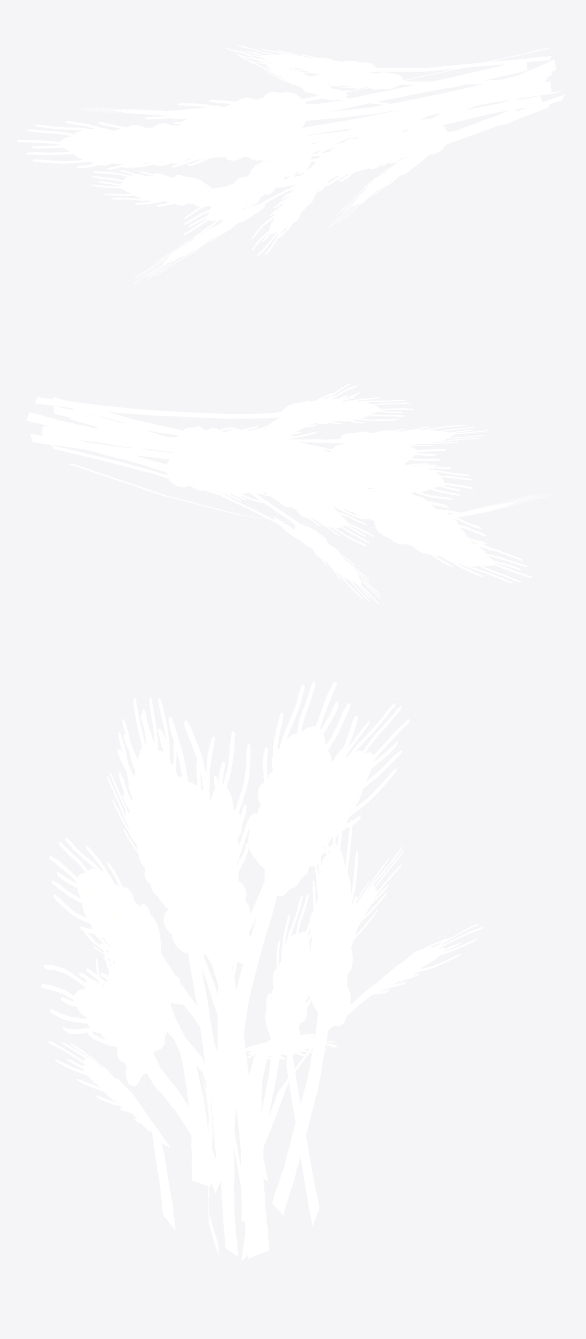
3 views of the same model, one above another, from view 1: azimuth 30°, elevation 25°; view 2: azimuth 150°, elevation 25°; view 3: azimuth 270°, elevation 25° (orthographic). The views are drawn at different scales.
Visible parts, largest first — view 1: SM_Wheat_Diseased_01_LOD0; view 2: SM_Wheat_Diseased_01_LOD0; view 3: SM_Wheat_Diseased_01_LOD0.
Part boxes in pixels (box(x1,y1,x2,y2)): SM_Wheat_Diseased_01_LOD0: box(17, 45, 564, 283); SM_Wheat_Diseased_01_LOD0: box(26, 383, 555, 604); SM_Wheat_Diseased_01_LOD0: box(41, 681, 483, 1260).
Bounding box in the file's own units: 1.29 × 0.6062 × 0.6518.
